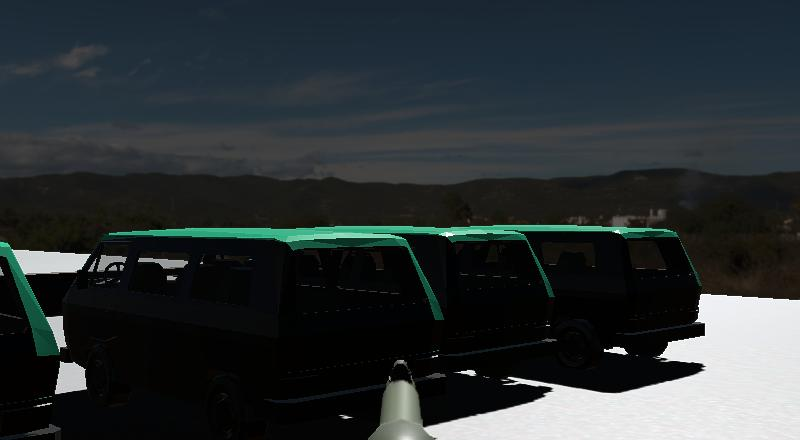car: (58, 226, 573, 440), (468, 215, 730, 398), (0, 208, 67, 440)
